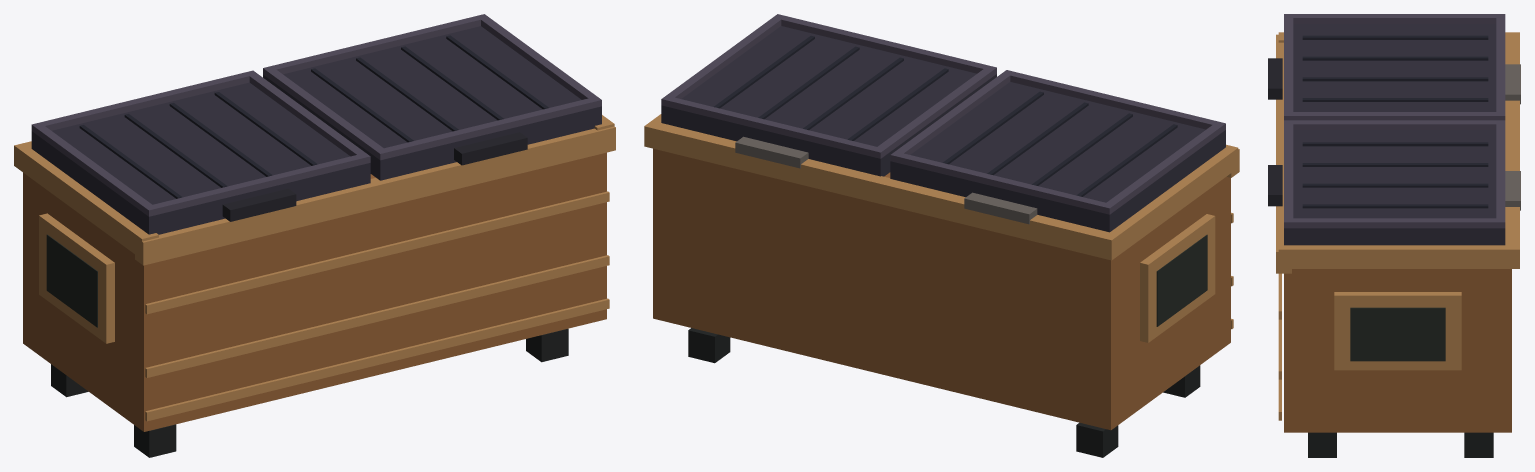
File: CMU3DOrangeDumpster.glb
The picture shows the model from 3 angles, left to right: view 1: azimuth 30°, elevation 25°; view 2: azimuth 150°, elevation 25°; view 3: azimuth 270°, elevation 25°; orthographic projection. The views are drawn at different scales.
Visible parts, largest first — view 1: lower bin shell, dark closed lid (×2), front strengthening rib (×3), front rolled rim, lid end border (×4), lid side border (×4), lid recessed rib (×8), side lift socket, bin side rim, socket dark recess, lid front handle (×2), caster wheel (×3); view 2: lower bin shell, dark closed lid (×2), rear top lip, lid end border (×4), lid side border (×4), lid recessed rib (×8), side lift socket, bin side rim, caster wheel (×3), socket dark recess, rear hinge (×2); view 3: dark closed lid (×2), lower bin shell, lid side border (×4), lid recessed rib (×8), bin side rim, socket dark recess, side lift socket, lid end border (×4), rear top lip, caster wheel (×2), front rolled rim, lid front handle (×2) (+1 smaller).
Part boxes in pixels (x1=…): lower bin shell: x1=23, y1=152, x2=606, y2=431; dark closed lid (×2): x1=31, y1=26, x2=601, y2=234; front strengthening rib (×3): x1=145, y1=191, x2=609, y2=421; front rolled rim: x1=135, y1=126, x2=615, y2=265; lid end border (×4): x1=40, y1=16, x2=593, y2=214; lid side border (×4): x1=31, y1=14, x2=601, y2=216; lid recessed rib (×8): x1=79, y1=35, x2=548, y2=198; side lift socket: x1=39, y1=213, x2=114, y2=343; bin side rim: x1=21, y1=149, x2=158, y2=258; socket dark recess: x1=46, y1=234, x2=97, y2=327; lid front handle (×2): x1=222, y1=132, x2=527, y2=221; caster wheel (×3): x1=51, y1=329, x2=568, y2=457; lower bin shell: x1=653, y1=148, x2=1230, y2=430; dark closed lid (×2): x1=661, y1=26, x2=1225, y2=232; rear top lip: x1=644, y1=120, x2=1119, y2=260; lid end border (×4): x1=670, y1=16, x2=1216, y2=212; lid side border (×4): x1=661, y1=14, x2=1225, y2=214; lid recessed rib (×8): x1=714, y1=35, x2=1177, y2=196; side lift socket: x1=1140, y1=214, x2=1215, y2=342; bin side rim: x1=1102, y1=144, x2=1238, y2=254; caster wheel (×3): x1=688, y1=328, x2=1200, y2=457; socket dark recess: x1=1156, y1=234, x2=1207, y2=326; rear hinge (×2): x1=735, y1=136, x2=1037, y2=224; dark closed lid (×2): x1=1284, y1=24, x2=1505, y2=245; lower bin shell: x1=1284, y1=269, x2=1511, y2=432; lid side border (×4): x1=1284, y1=14, x2=1505, y2=228; lid recessed rib (×8): x1=1302, y1=35, x2=1488, y2=208; bin side rim: x1=1278, y1=242, x2=1506, y2=268; socket dark recess: x1=1350, y1=307, x2=1445, y2=361; side lift socket: x1=1334, y1=292, x2=1461, y2=370; lid end border (×4): x1=1284, y1=18, x2=1505, y2=218; rear top lip: x1=1504, y1=32, x2=1519, y2=268; caster wheel (×2): x1=1308, y1=432, x2=1493, y2=457; front rolled rim: x1=1276, y1=34, x2=1291, y2=273; lid front handle (×2): x1=1268, y1=58, x2=1282, y2=206.
Size of the model in its own units: 2 by 1.02 by 0.953.
